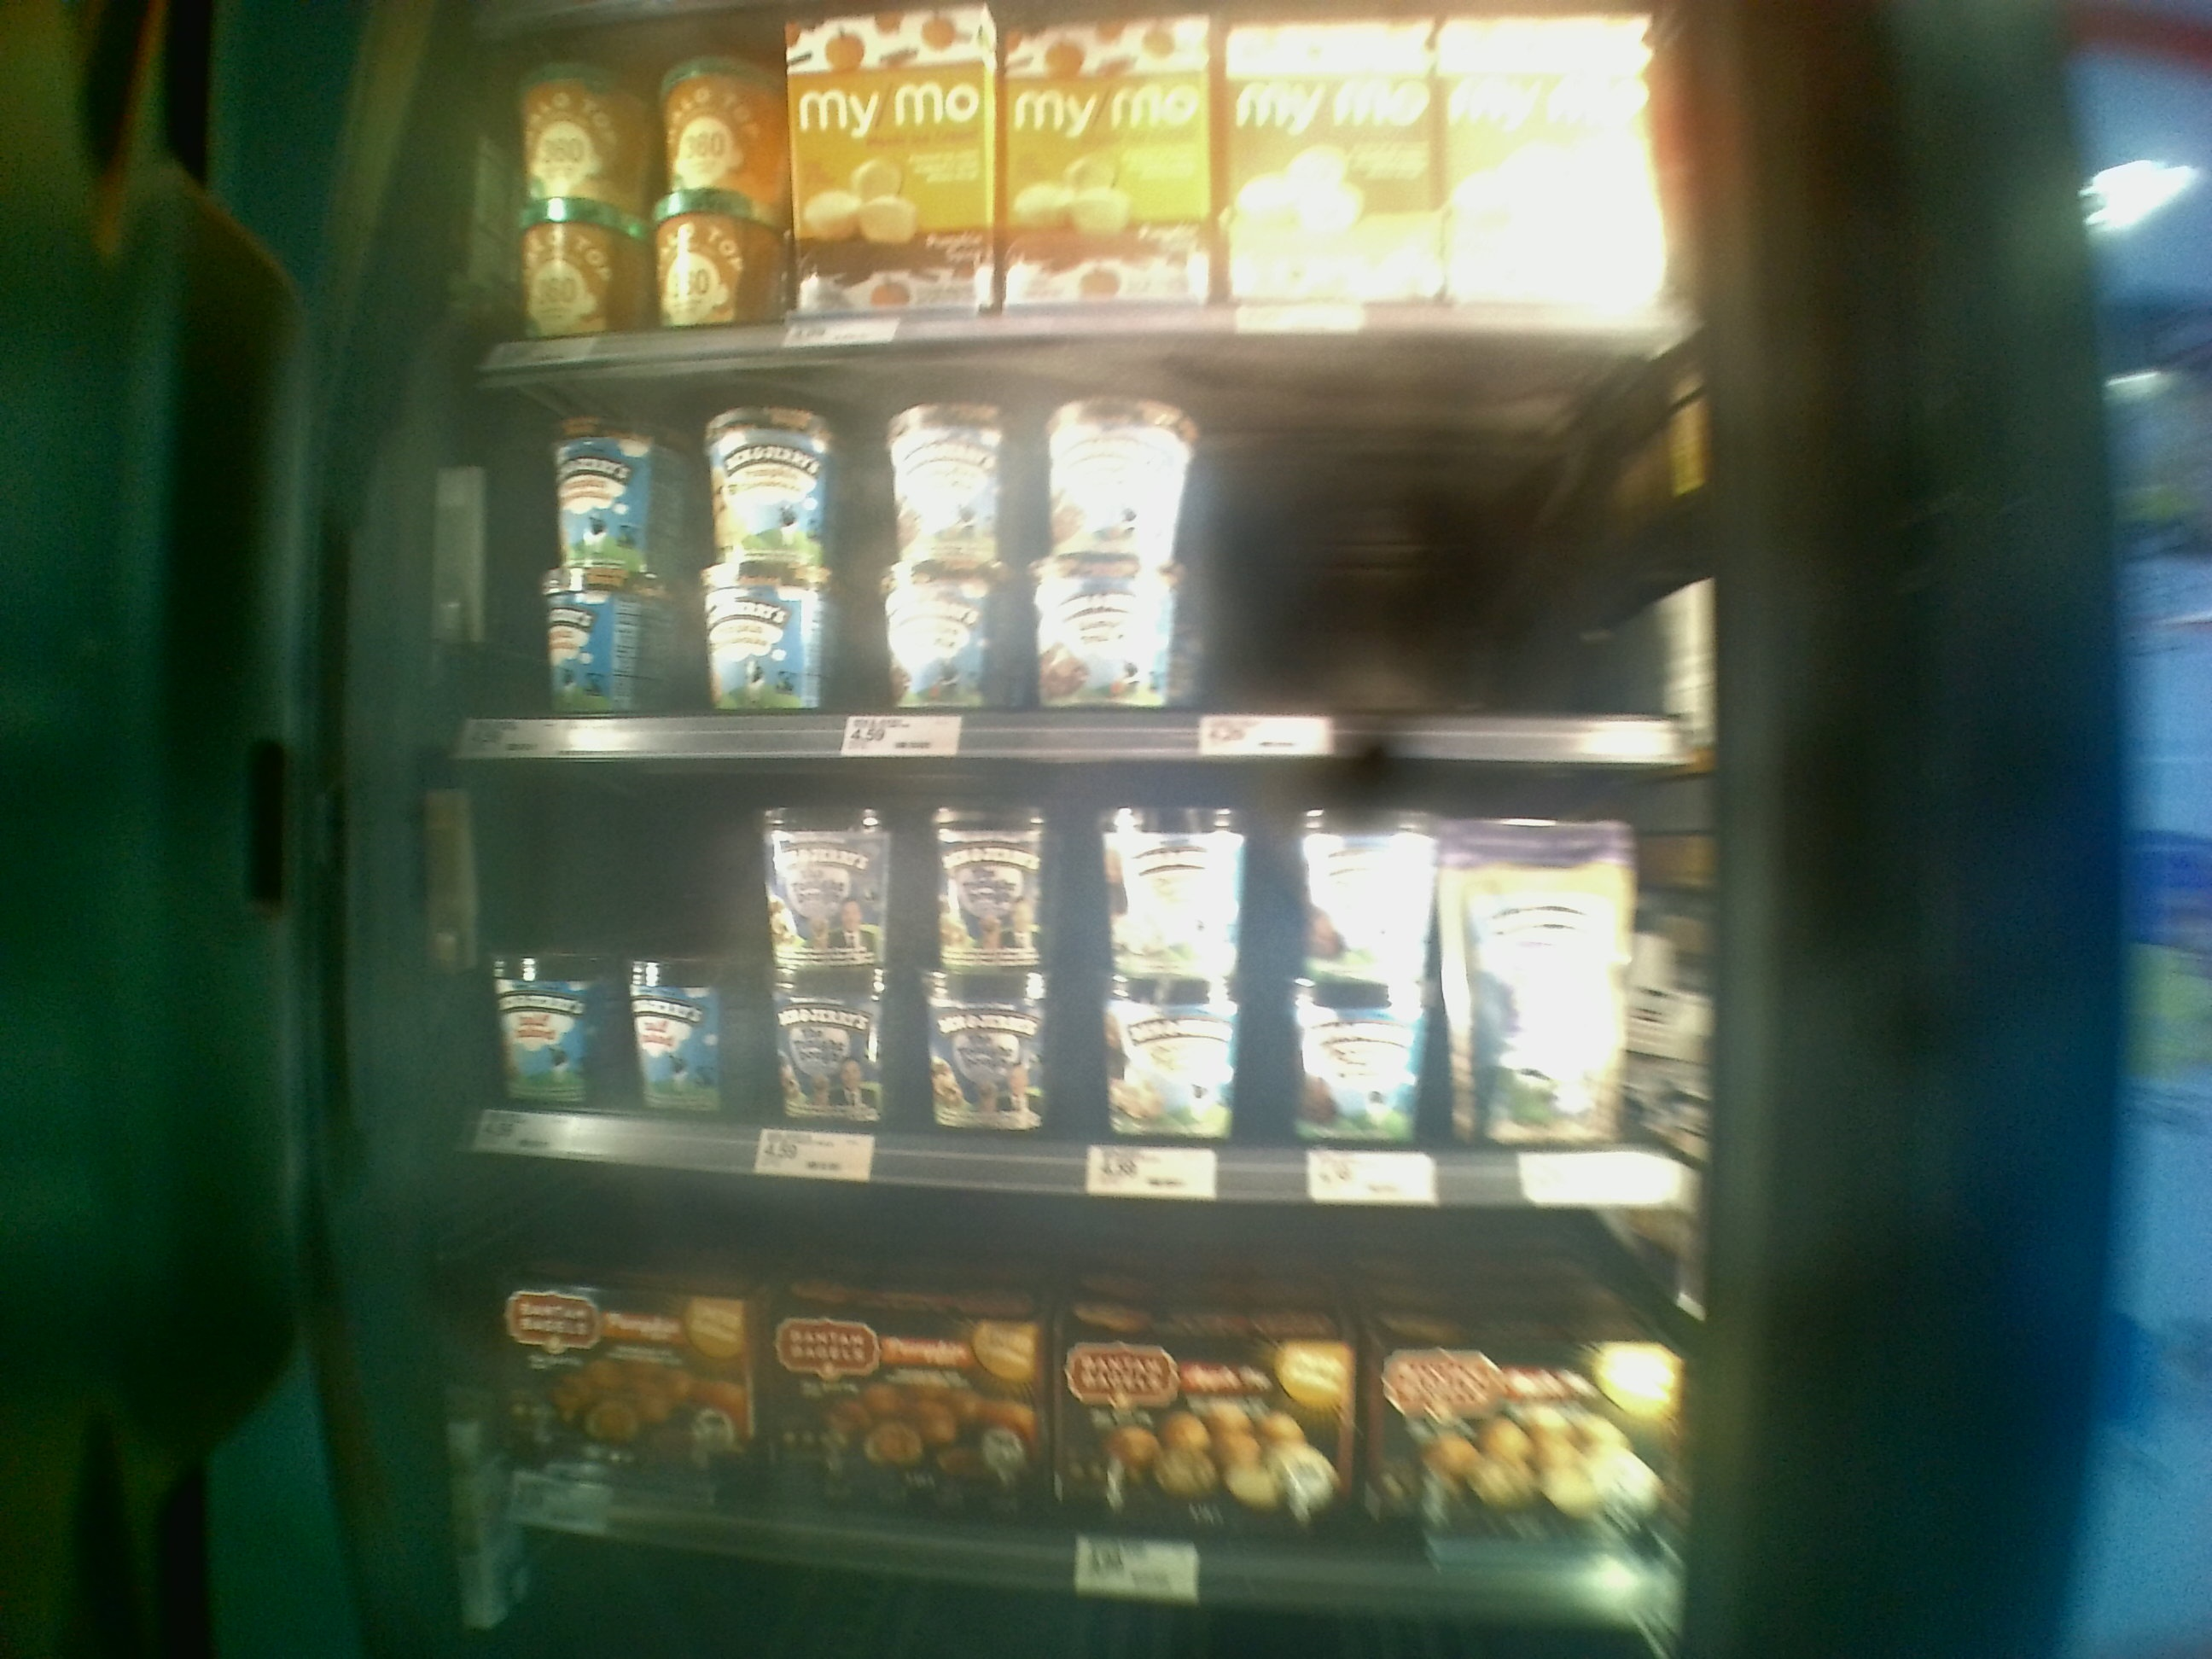shelf: (404, 713, 1689, 1197), (430, 1129, 1655, 1603), (435, 364, 1677, 742)
